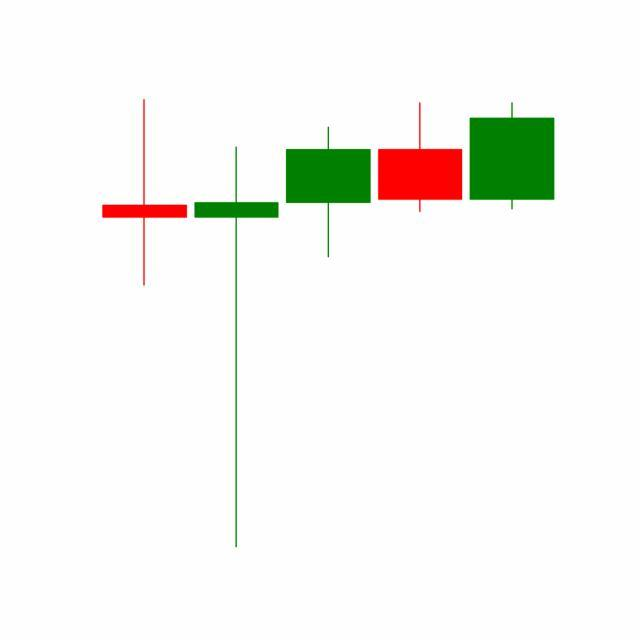Marubozu: (466, 101, 559, 211)
